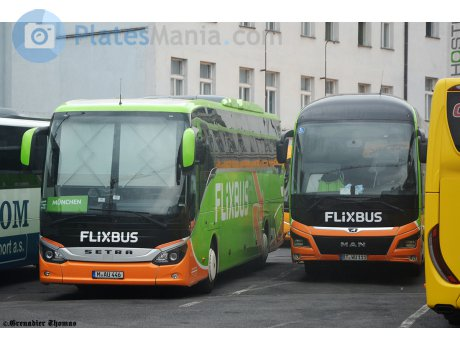License Plates: (92, 265, 128, 279), (334, 249, 367, 258)
